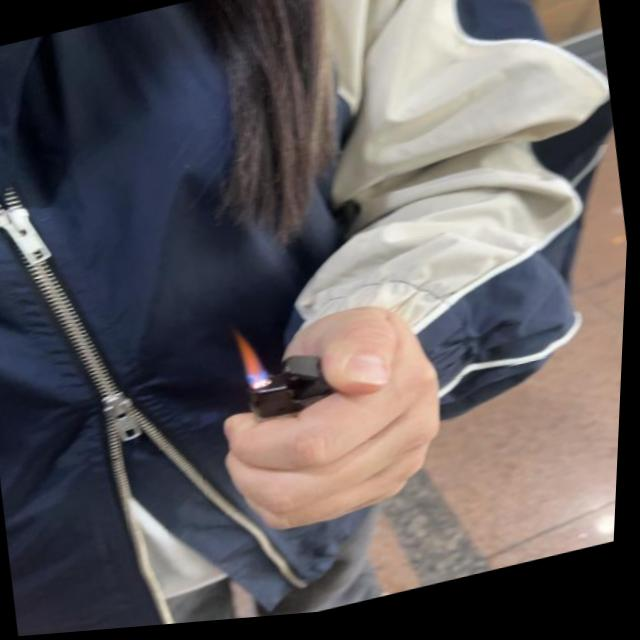Fire: (235, 332, 275, 390)
